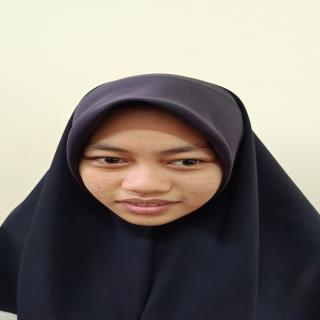Takut: (64, 100, 231, 233)
